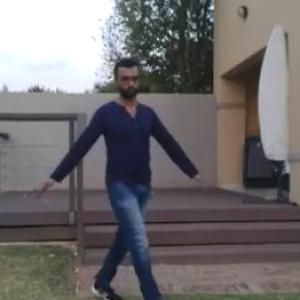land: (42, 62, 192, 299)
